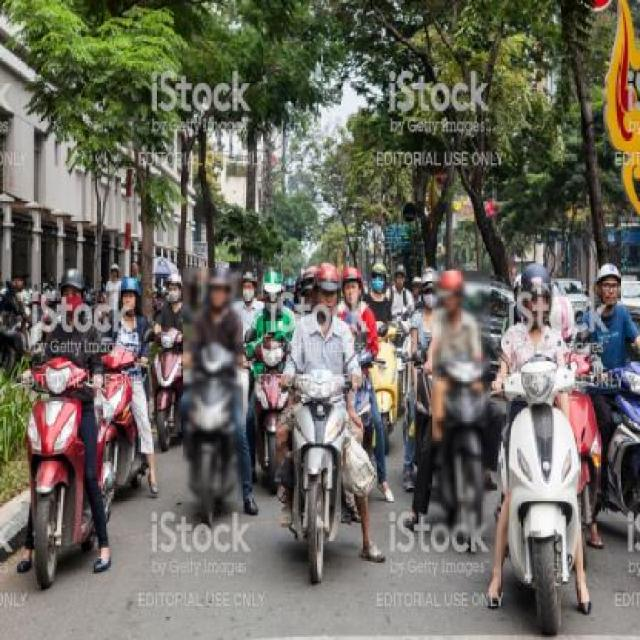helmet: (494, 263, 574, 341), (301, 259, 350, 335), (34, 266, 93, 327), (187, 262, 240, 318), (426, 264, 468, 320)
motorcycle: (500, 269, 592, 640), (12, 269, 118, 590), (283, 236, 376, 586), (152, 274, 260, 526)
